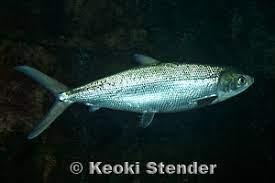Bangus: (16, 50, 259, 143)
